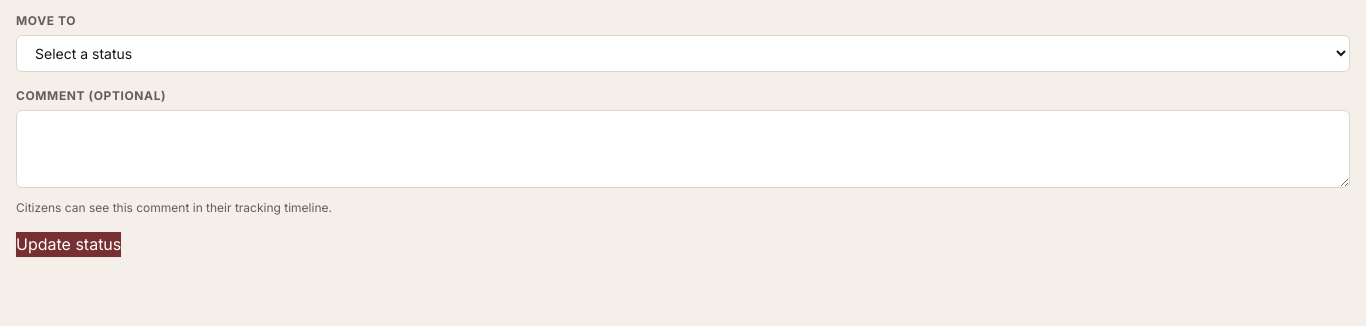
Test: StatusUpdateForm › shows the server error when the update fails
Select "assigned" in the dropdown labelled "Move to" at (683, 54), box [16, 35, 1350, 72]
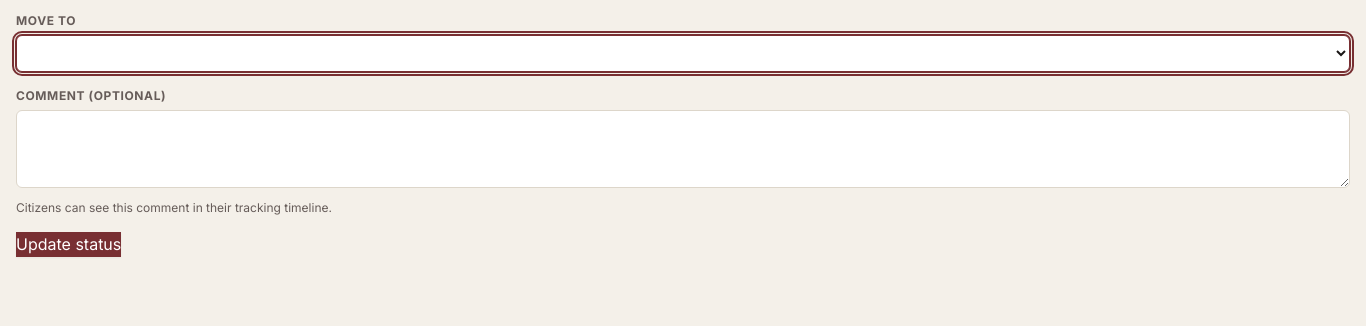
Click the button "Update status".
click(69, 244)  # box [16, 232, 121, 257]
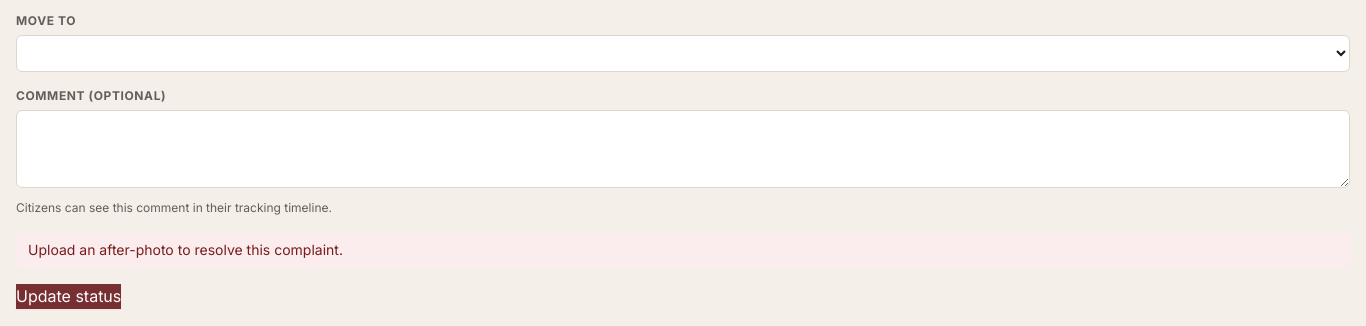
Now the message shows "after-photo", box [28, 241, 343, 258]
